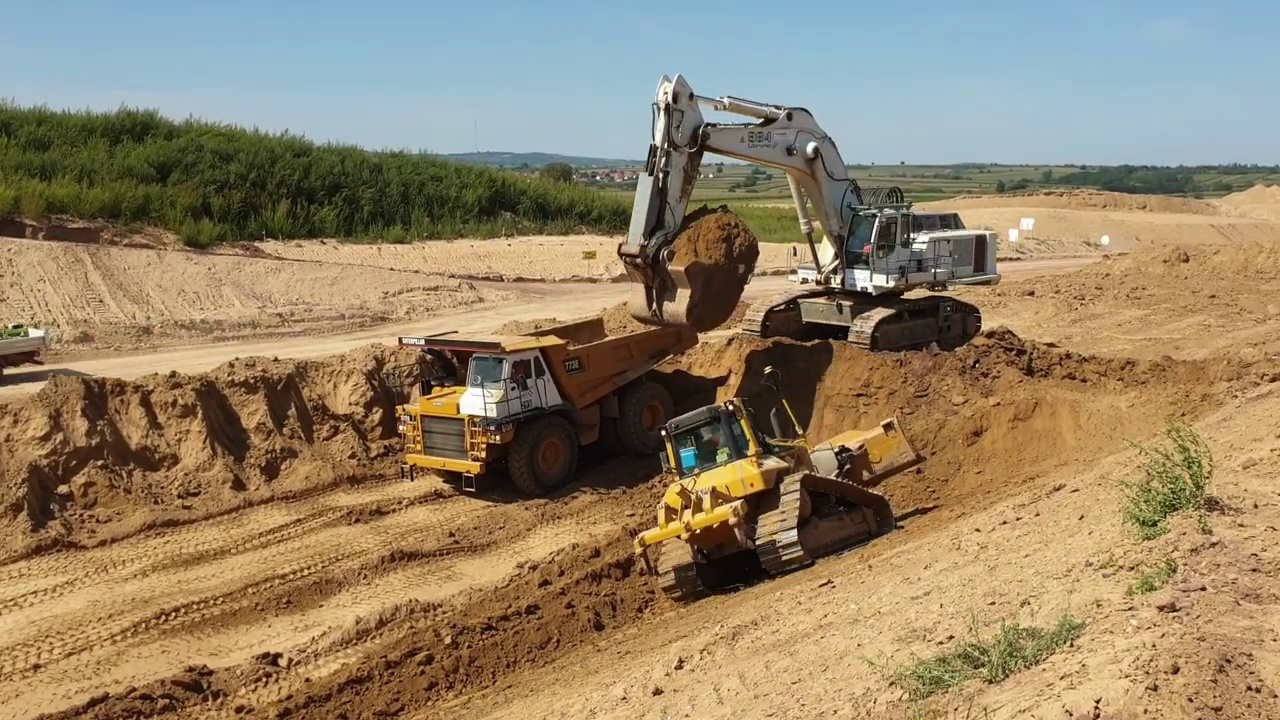bulldozer: (633, 361, 930, 609)
excavator: (619, 68, 1002, 354)
truck: (394, 320, 680, 499), (1, 313, 43, 388)
